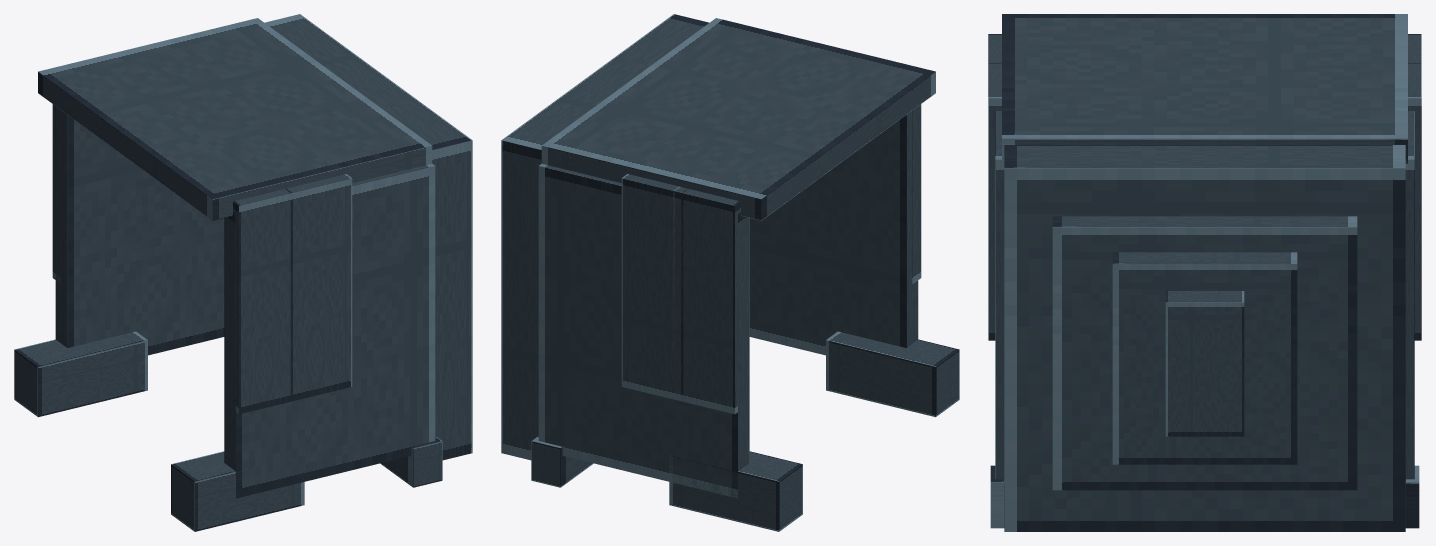
Rendered from bench_helmet_2.obj.
The picture shows the model from 3 angles, left to right: view 1: azimuth 30°, elevation 25°; view 2: azimuth 150°, elevation 25°; view 3: azimuth 270°, elevation 25°; orthographic projection. The views are drawn at different scales.
Parts seen in each view (by area): view 1: geometry; view 2: geometry; view 3: geometry.
Part boxes in pixels (x1,y1,x2,y2): geometry: [14, 14, 472, 531]; geometry: [501, 14, 959, 531]; geometry: [988, 14, 1421, 531].
Size of the model in its own units: 0.2689 by 0.25 by 0.2541.
